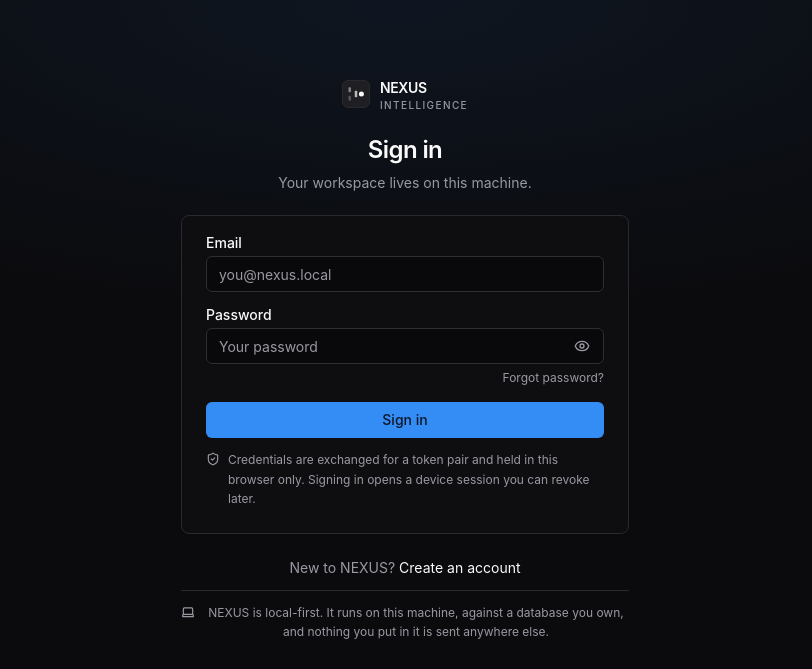
Test: LoginPage › reports a malformed address and stops before the password round trip
This screenshot has width=812, height=669.
Type "ada@nexus" into the field labelled "Email".
click(405, 274); type("ada@nexus")  # box [206,256,604,292]
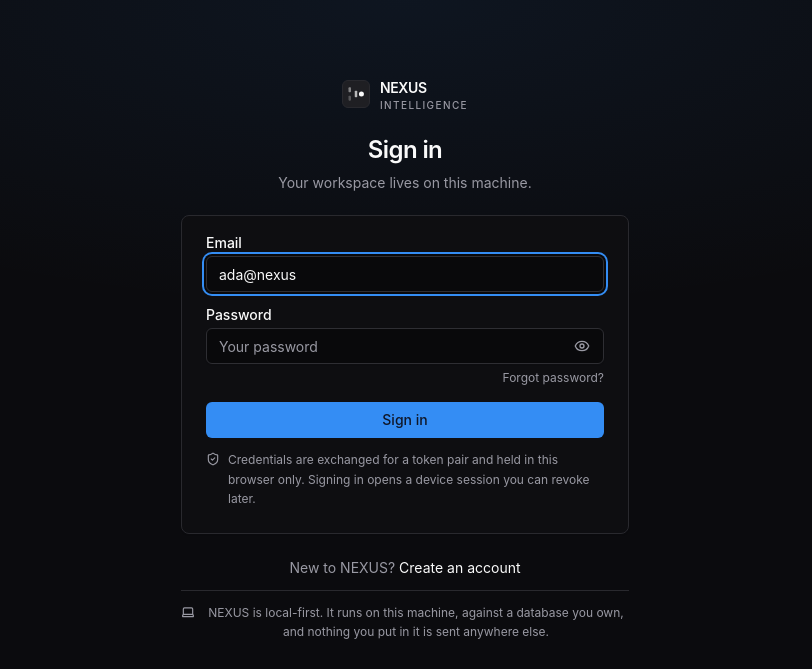
Type "correct-horse-battery" into the password field labelled "Password".
click(405, 346); type("correct-horse-battery")  # box [206,328,604,364]
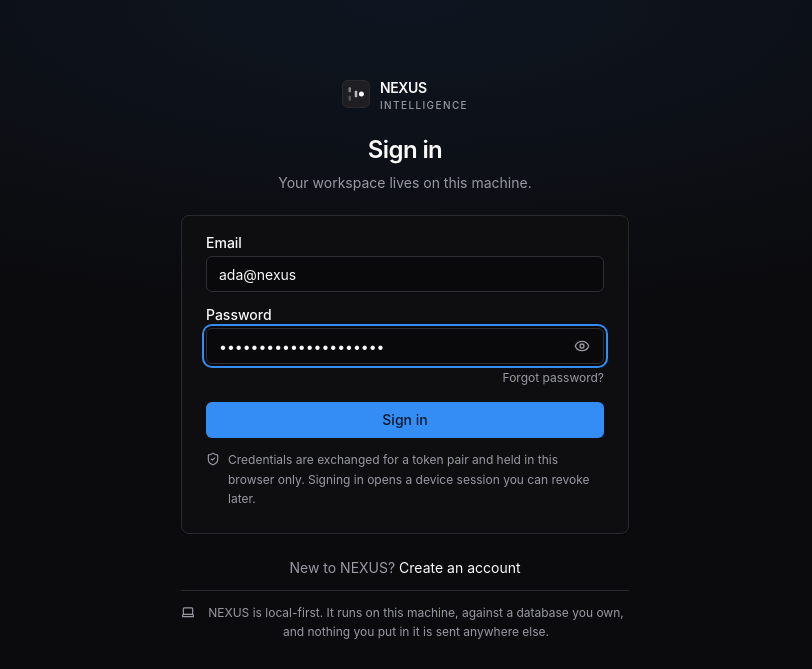
Click the button "Sign in".
click(405, 420)  # box [206,402,604,438]
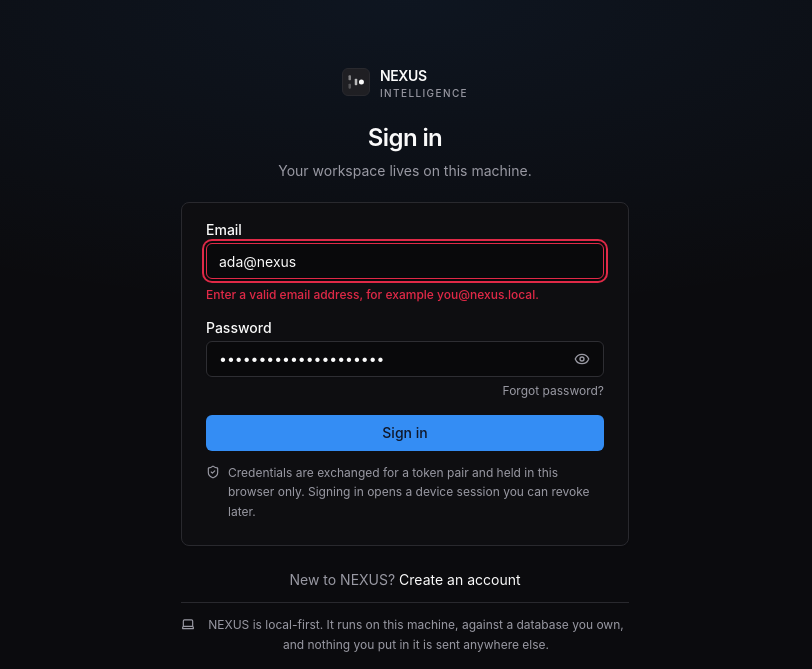
Check: the text "Enter a valid email address, for example you@nexus.local." is shown, box [206,287,539,302]
